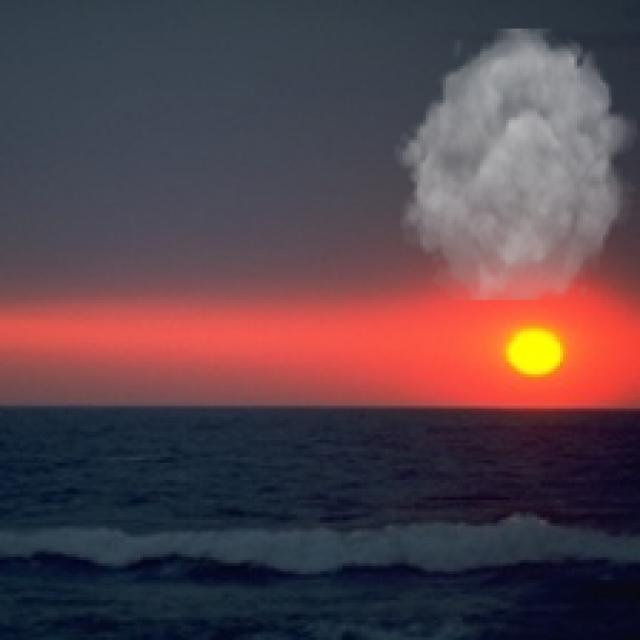smoke: (392, 28, 637, 303)
